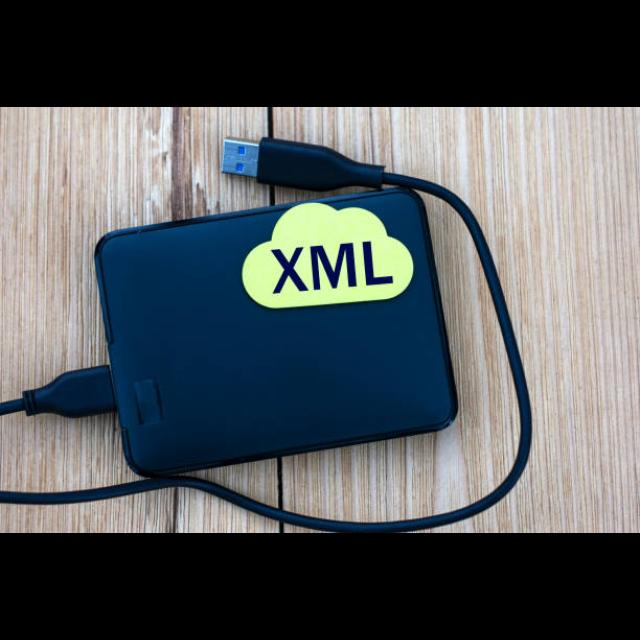HDD: (92, 189, 461, 480)
